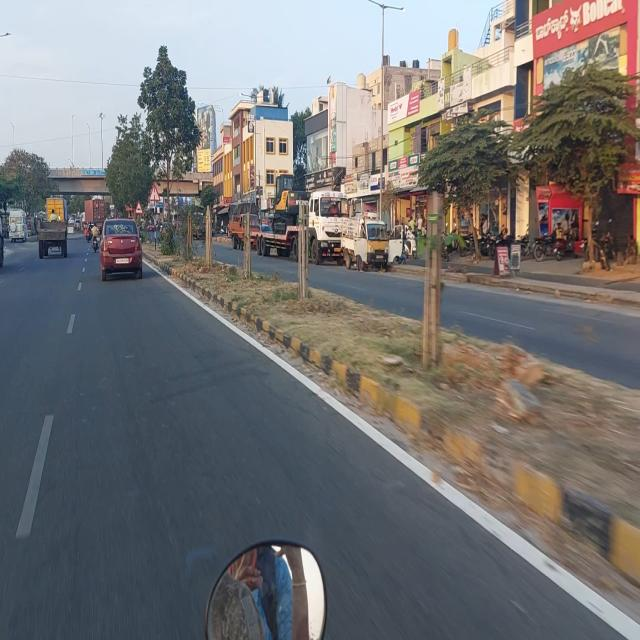bien_cam: (149, 182, 159, 204), (136, 200, 142, 214)
